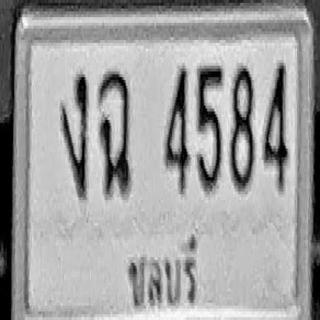A07: (60, 71, 88, 197)
A09: (98, 68, 131, 197)
N04: (263, 61, 288, 190), (164, 64, 188, 193)
N05: (197, 63, 223, 192)
N08: (230, 64, 254, 190)
P13: (125, 228, 197, 317)
